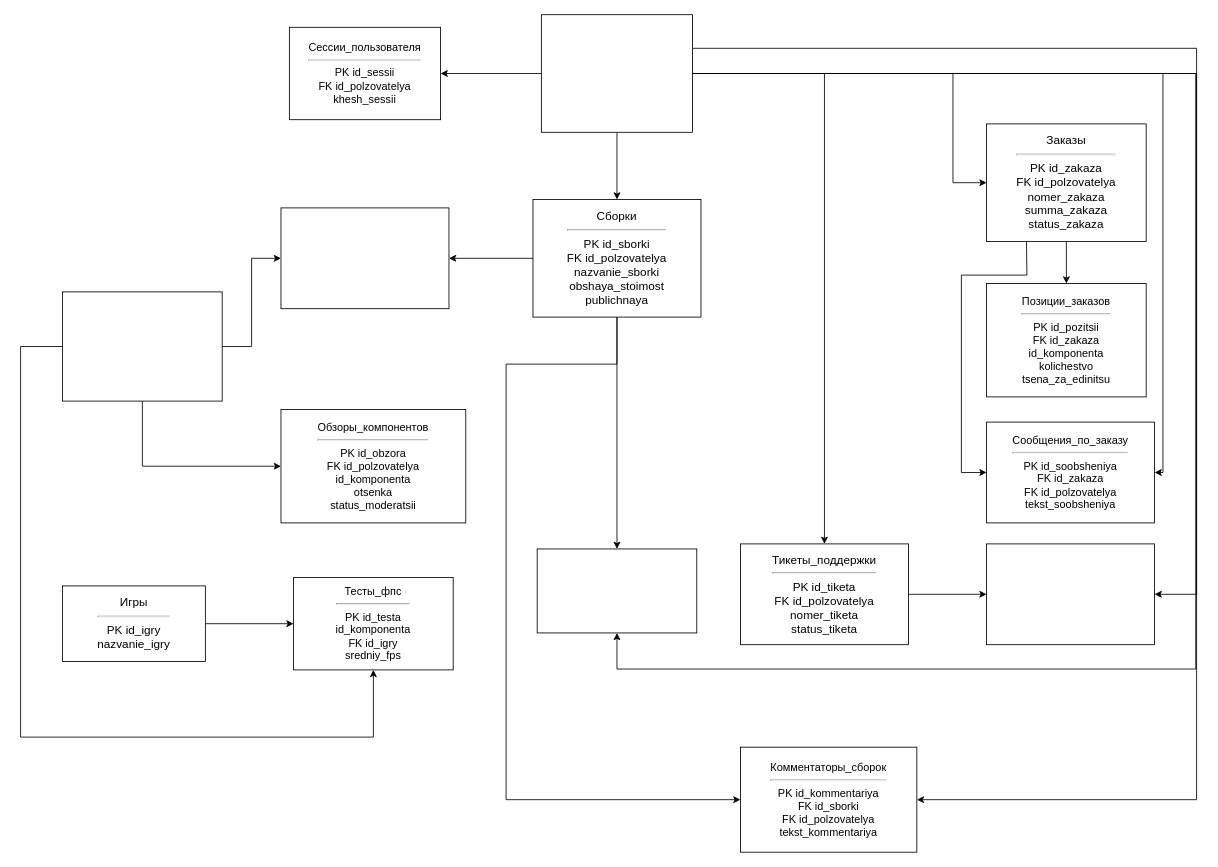
Image size: 1218x867. Some labels were removed from this diagram. The centre of each missing label's shape, as x and y in pixels:
Компоненты PK id_komponenta FK id_kategorii nazvanie proizvoditel tsena: (142,346)
Компоненты_сборки PK id_zapisi FK id_sborki id_komponenta kolichestvo: (364,258)
Лайки_сборок PK id_laika FK id_sborki FK id_polzovatelya: (616,590)
Ответы_тикета PK id_otveta FK id_tiketa FK id_polzovatelya tekst_soobsheniya: (1070,594)
Пользователи PK id_polzovatelya imya_polzovatelya email rol status: (617,73)
